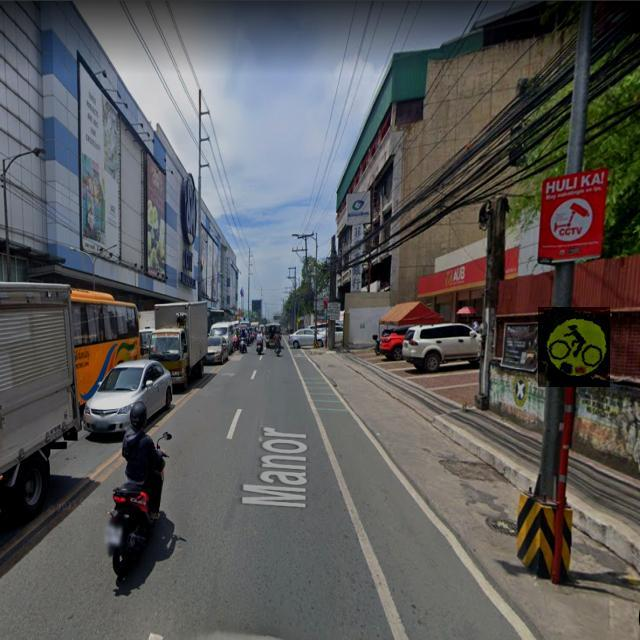bike lane: (538, 307, 610, 387)
